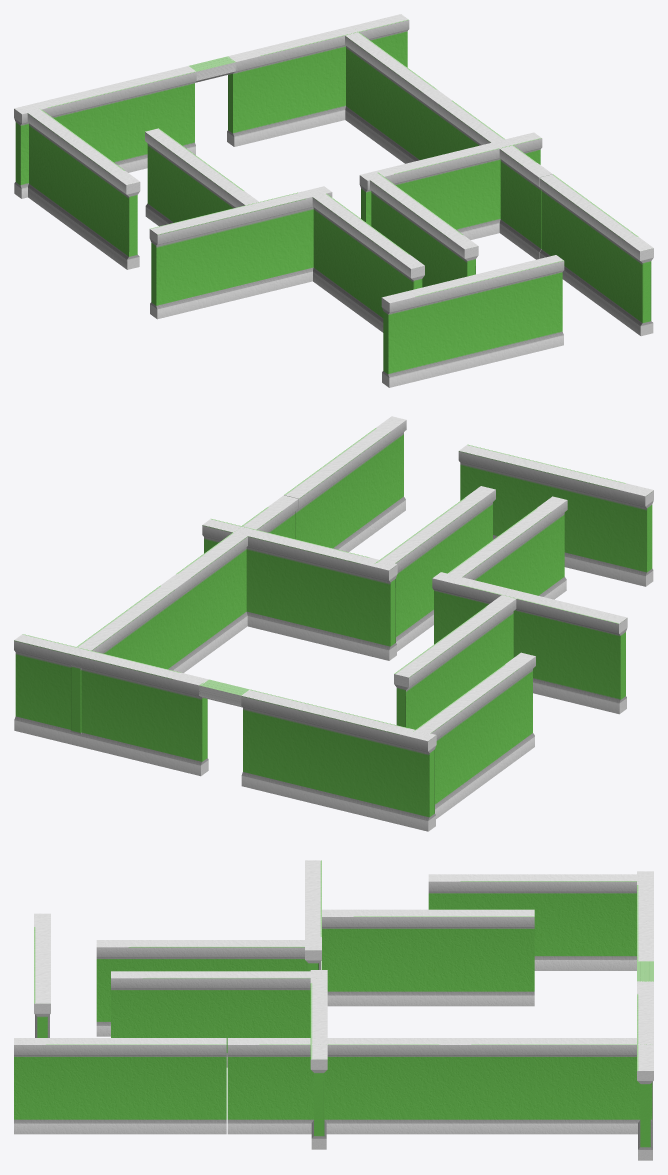
Rendered from Wall.fbx.
The picture shows the model from 3 angles, top to bottom: view 1: azimuth 30°, elevation 25°; view 2: azimuth 150°, elevation 25°; view 3: azimuth 270°, elevation 25°; orthographic projection. The views are drawn at different scales.
Parts seen in each view (by area): view 1: polySurface92; view 2: polySurface92; view 3: polySurface92.
Boxes of the visible parts, bbox=[...] form: polySurface92: bbox=[14, 14, 653, 387]; polySurface92: bbox=[14, 416, 653, 831]; polySurface92: bbox=[14, 860, 653, 1160].
Size of the model in its own units: 926 by 184 by 1189.
